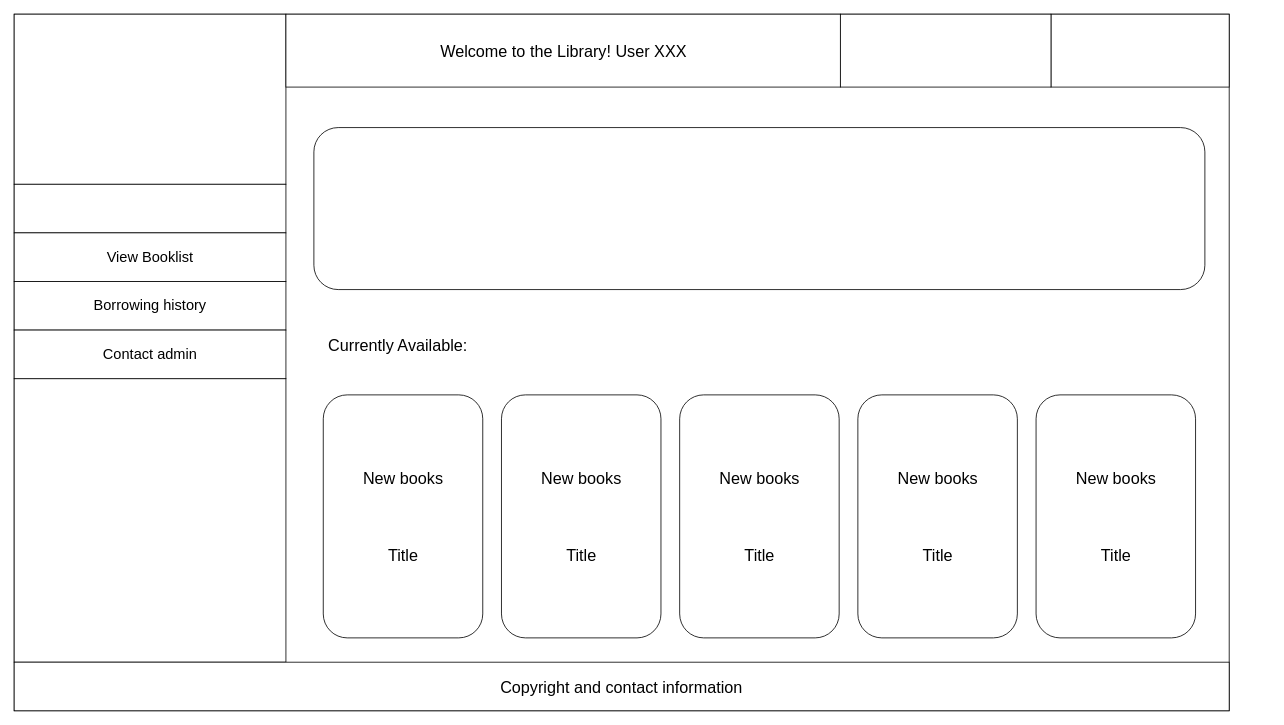
Image size: 1284x725. Some labels were removed from this diagram. The centre of each missing label's shape, as x and y in pixels:
"Borrowed: # Expired: #" goes at [945,50].
"Edit profile Sign out" goes at [1139,50].
"Homepage Logo" goes at [149,98].
"Library hours" goes at [149,520].
"Library News" goes at [759,208].
